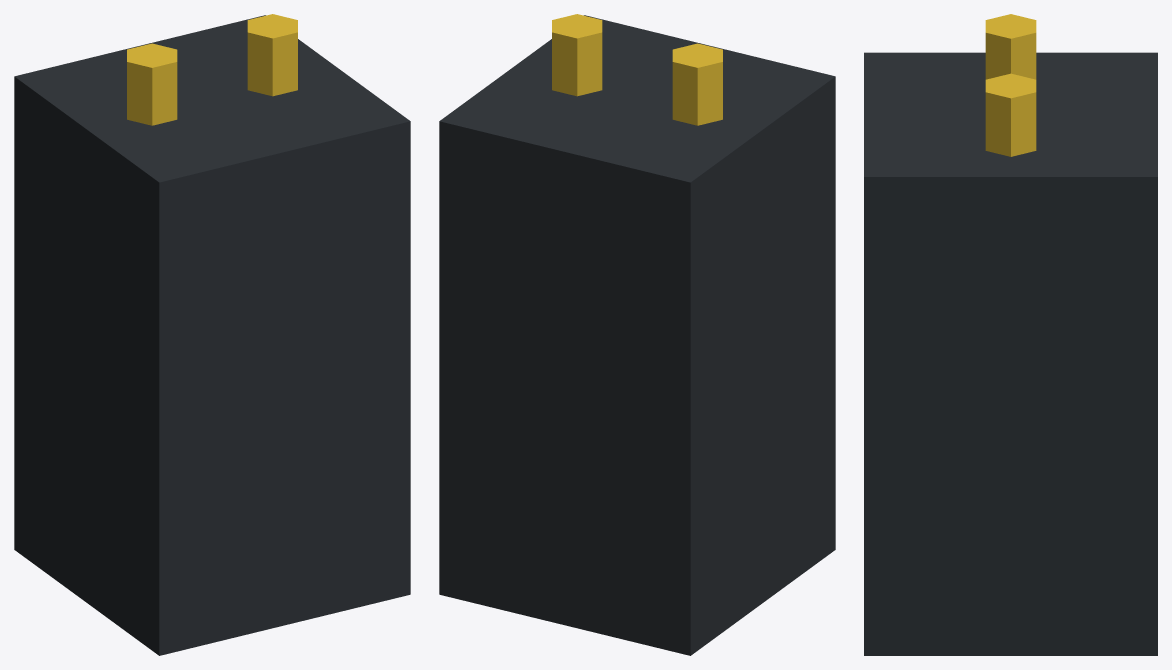
The model's file is battery_cell.obj.
The picture shows the model from 3 angles, left to right: view 1: azimuth 30°, elevation 25°; view 2: azimuth 150°, elevation 25°; view 3: azimuth 270°, elevation 25°; orthographic projection.
Size of the model in its own units: 0.5 by 1.01 by 0.5.
